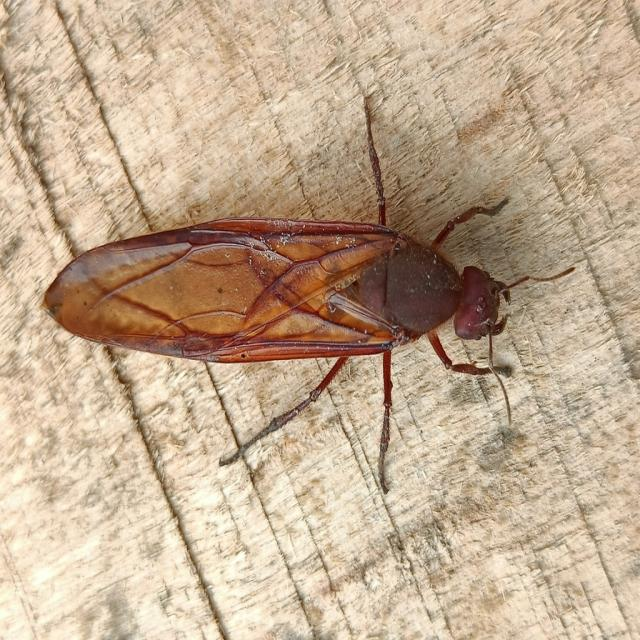Alive-Female-Alate: (43, 95, 576, 497)
